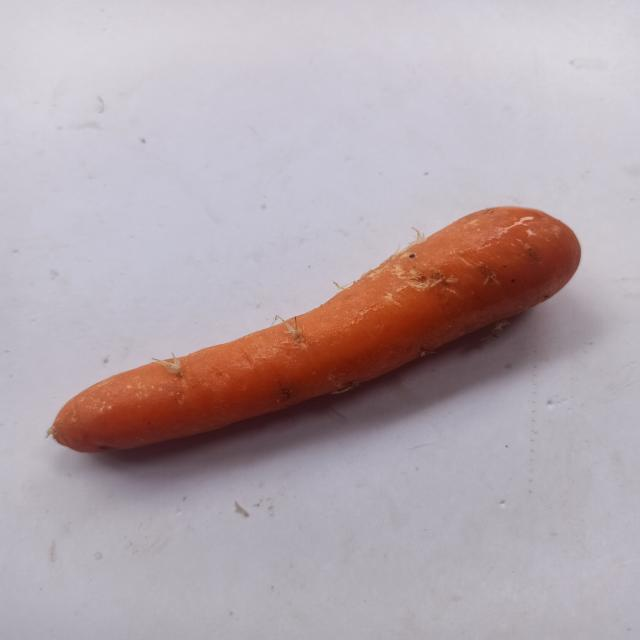Carrot: (47, 188, 594, 478)
